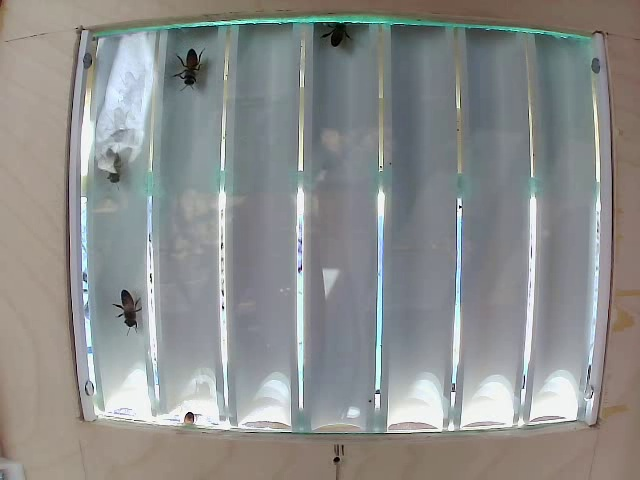bee: (105, 283, 154, 344), (94, 146, 133, 200), (184, 54, 214, 102)
